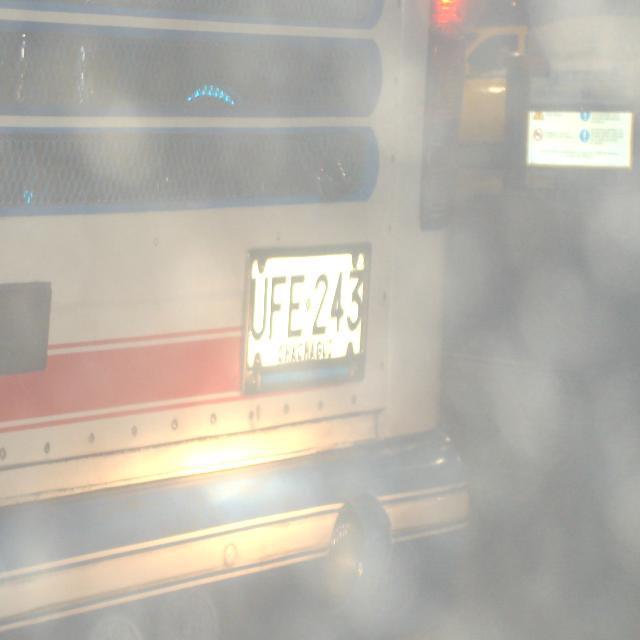placa: (244, 240, 366, 370)
